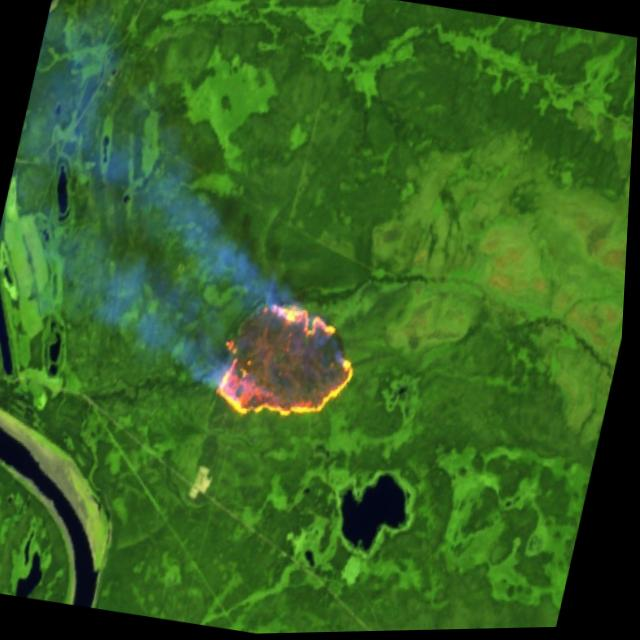fire: (205, 288, 378, 445)
